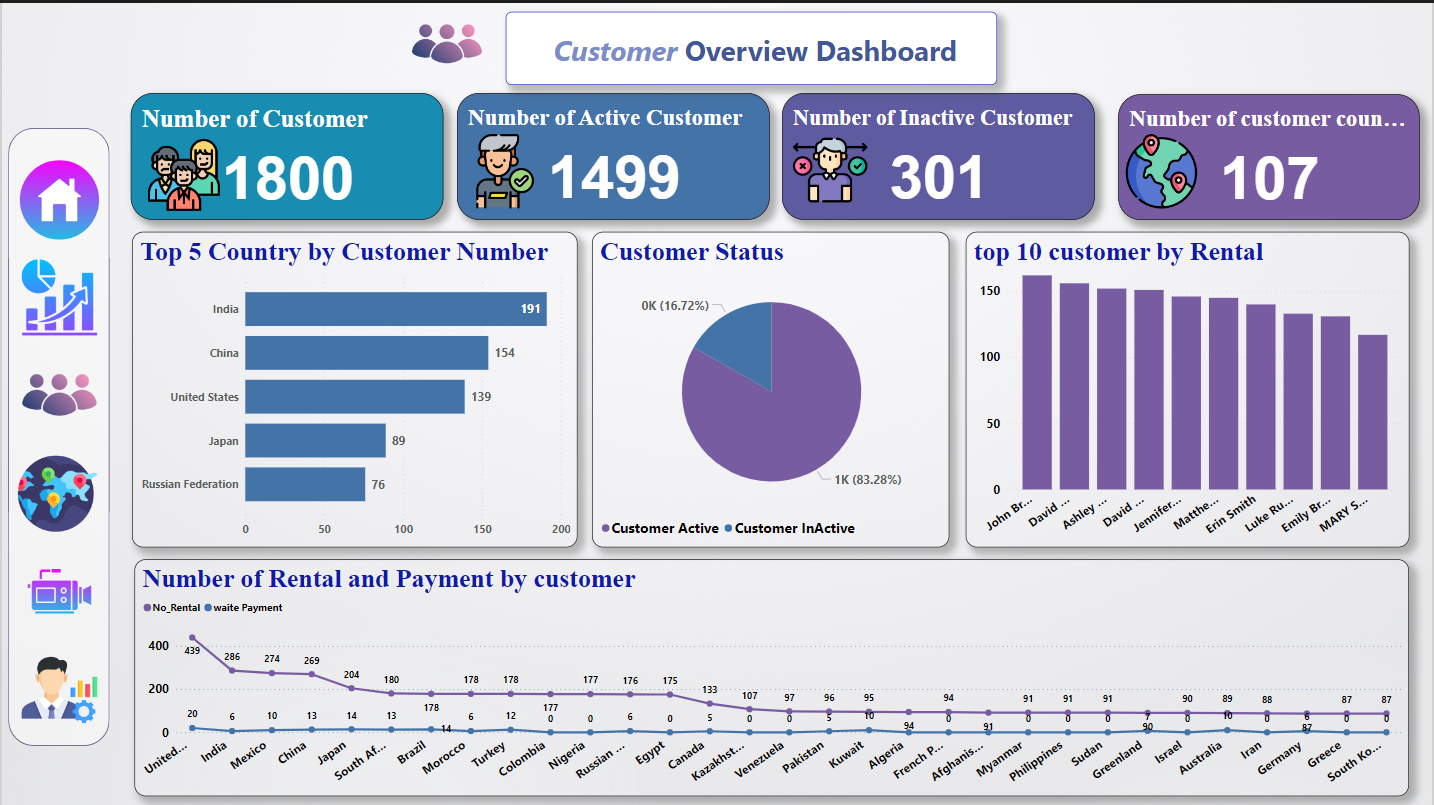

The page's visual inventory and layout, read from the dashboard file:
{"tool":"tableau","page":{"name":"Customer","canvas":[1920,1080],"ordinal":1},"visuals":[{"type":"image","param":"D:/ITI intensive code camp/Graduation Project/Sakila/Tableau/navigation bar 4 sh","box":[8,8,1904,1064]},{"type":"dashboard-object","box":[734,823,185,123]},{"type":"dashboard-object","box":[1017,828,180,123]},{"type":"dashboard-object","box":[1298,828,180,123]},{"type":"dashboard-object","box":[1579,828,180,123]},{"type":"dashboard-object","box":[455,830,180,123]},{"type":"dashboard-object","box":[178,834,175,122]}]}

Visuals, with their boxes in screenshot pixels (x1, y1, x2, y2), scaled from the page's 1920x1080 canvas onto the 1434x805 screenshot:
image: <region>6, 6, 1428, 799</region>
dashboard-object: <region>548, 613, 686, 705</region>
dashboard-object: <region>760, 617, 894, 709</region>
dashboard-object: <region>969, 617, 1104, 709</region>
dashboard-object: <region>1179, 617, 1314, 709</region>
dashboard-object: <region>340, 619, 474, 710</region>
dashboard-object: <region>133, 622, 264, 713</region>
